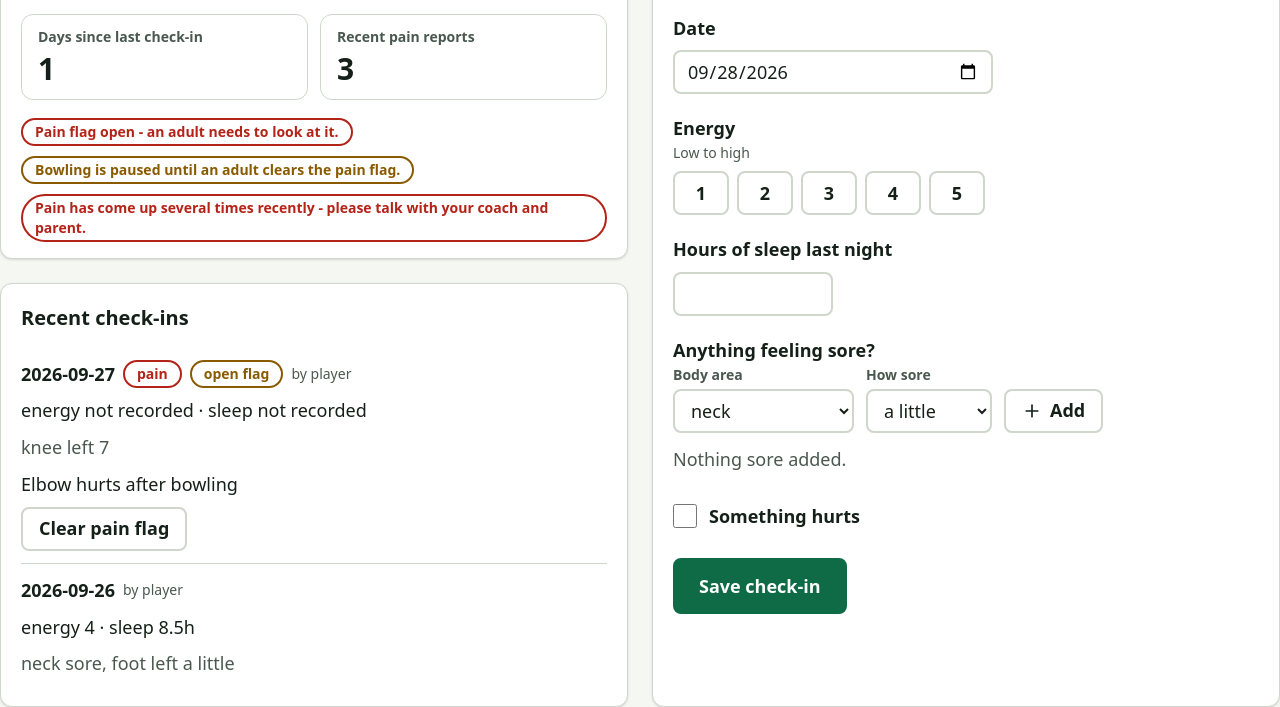
it: adult pain clearance › requires a note, then posts it and reloads
(page scrolled)
Click the button "Clear pain flag" at (104, 529), box [21,507,187,551]
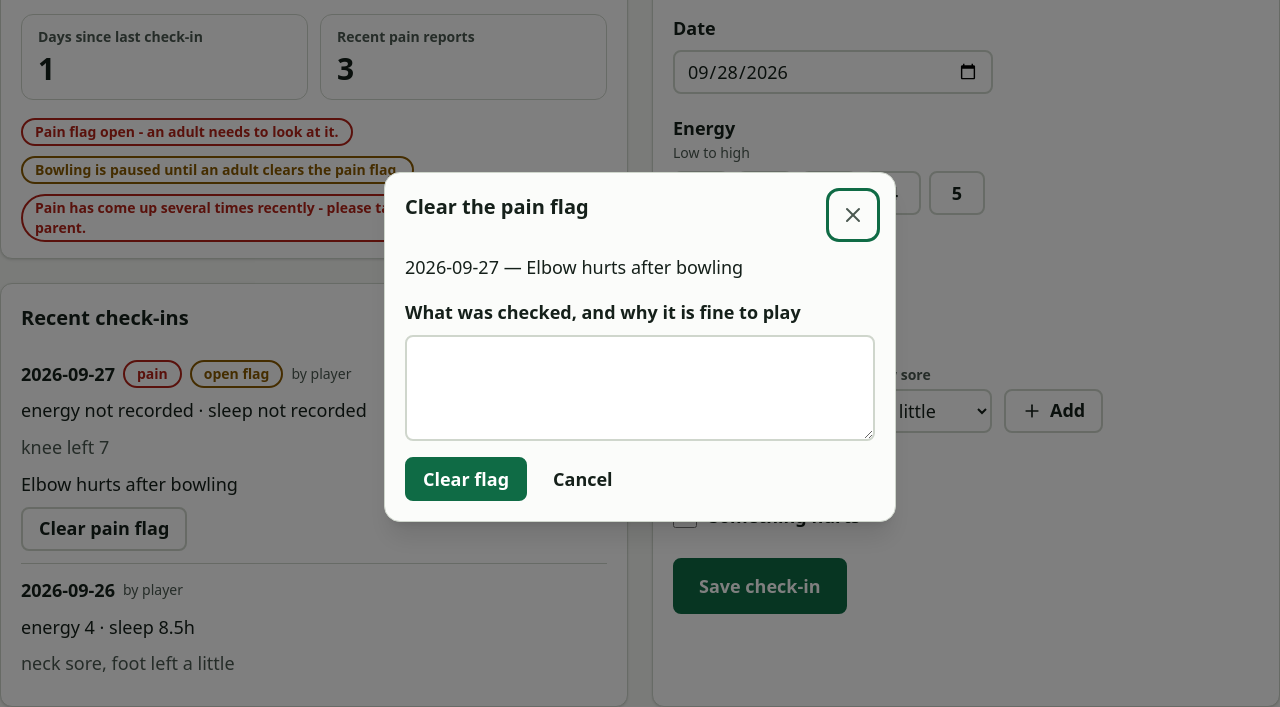
Now the dialog shows "2026-09-27 — Elbow hurts after bowling", box [384,172,896,522]
Click the button "Clear flag" at (466, 479), box [405,457,527,501]
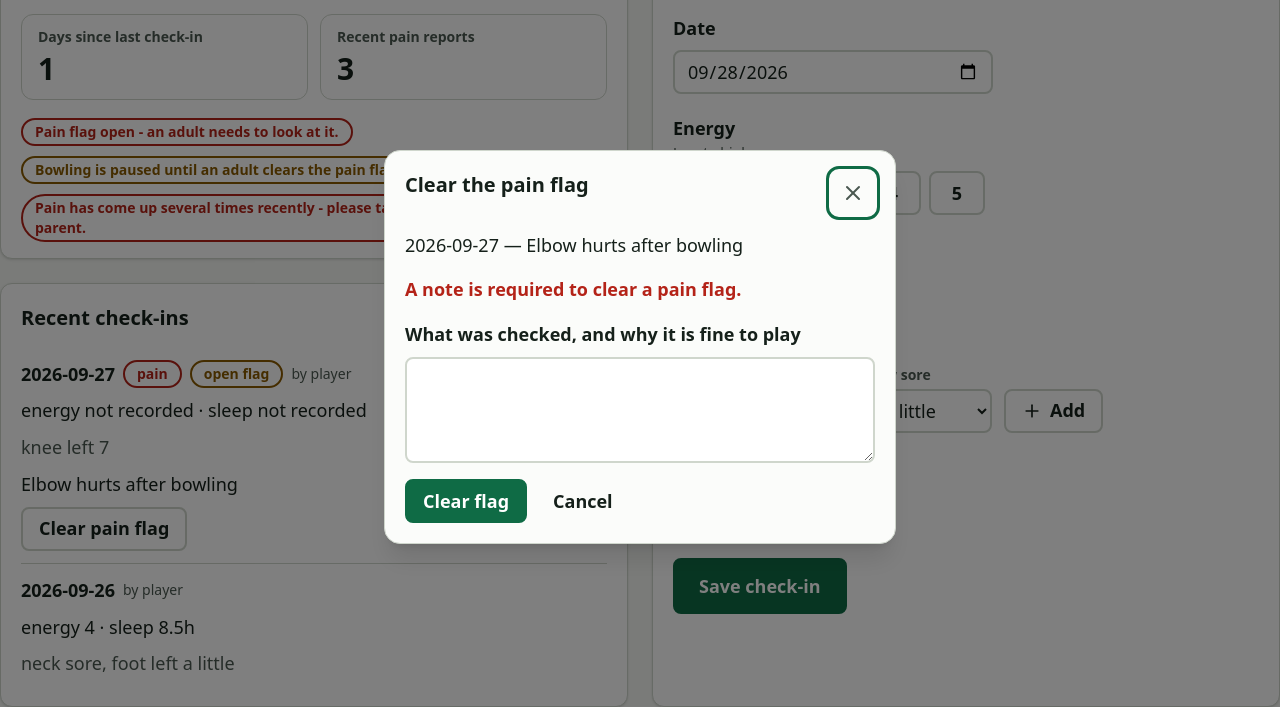
Now the message reads "A note is required to clear a pain flag.", box [405,277,741,301]
Type "  Rested, throws without pain  " into the text box labelled "What was checked, and why it is fine to play" at (640, 410), box [405,357,875,463]
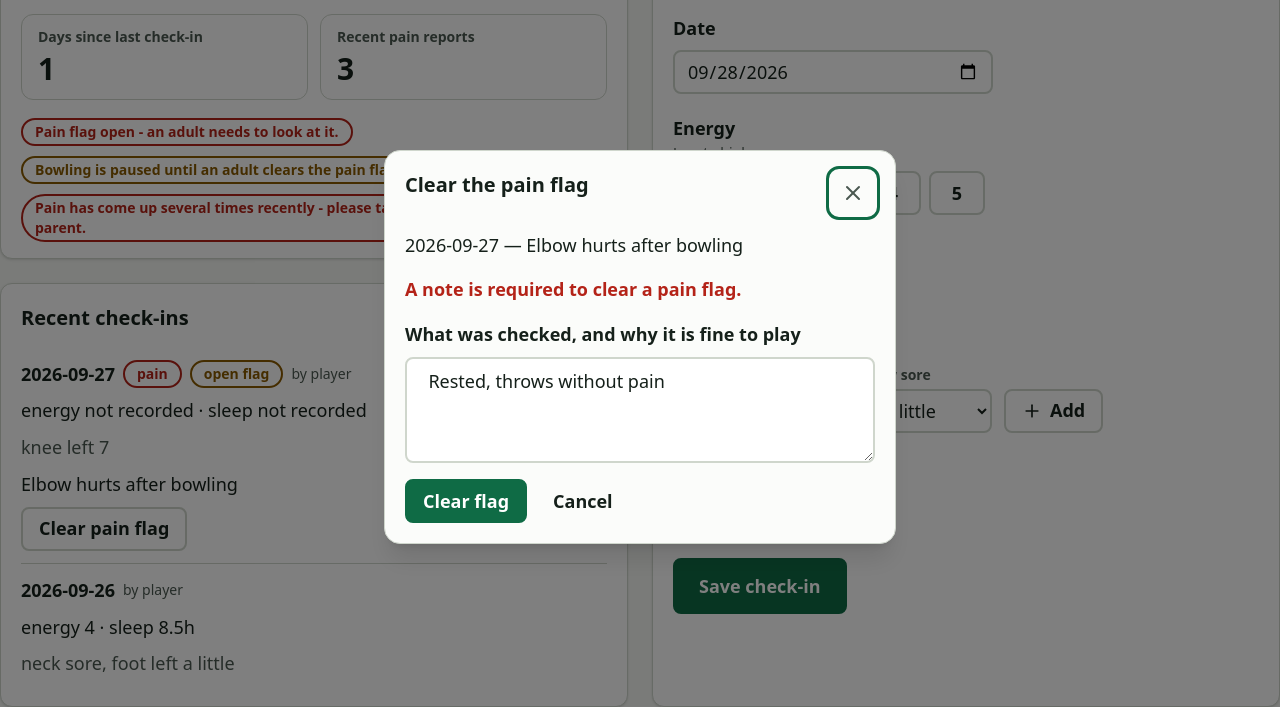
Click the button "Clear flag" at (466, 501), box [405,479,527,523]
(page scrolled)
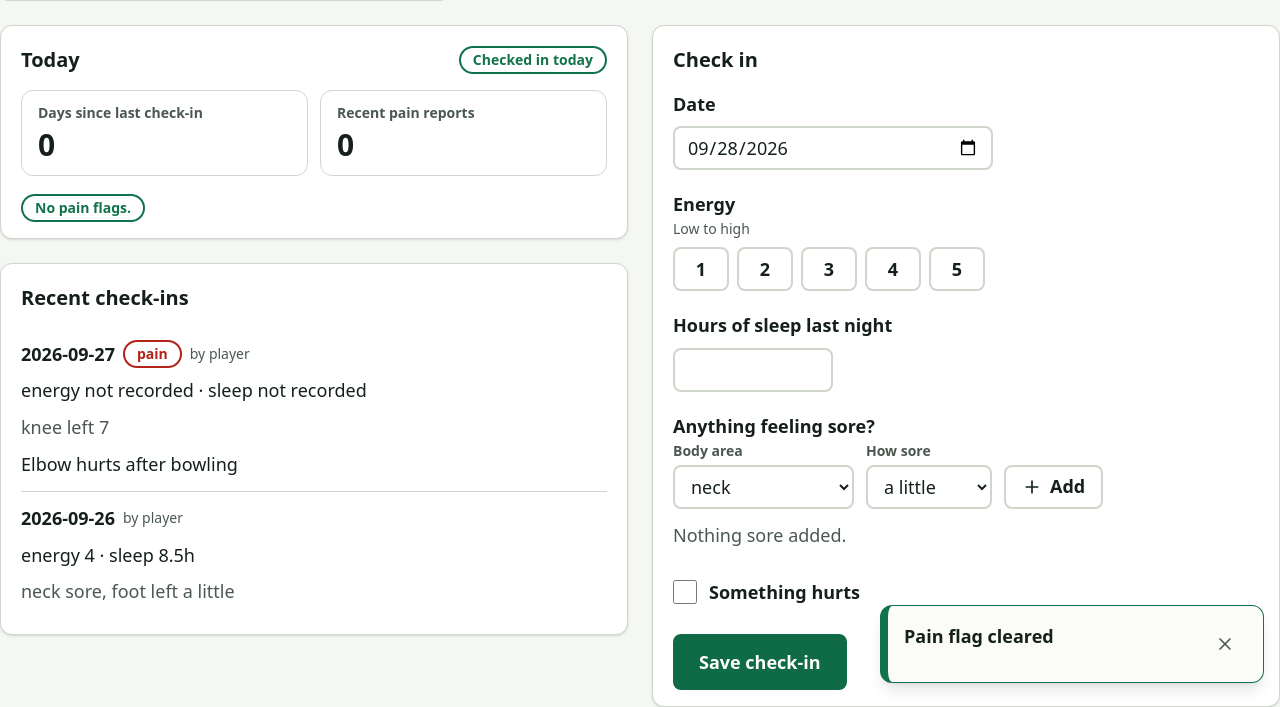
Now the text "Pain flag cleared" is shown, box [904,624,1054,648]
Now the dialog is gone
Now the text "No pain flags." is shown, box [21,194,145,222]
